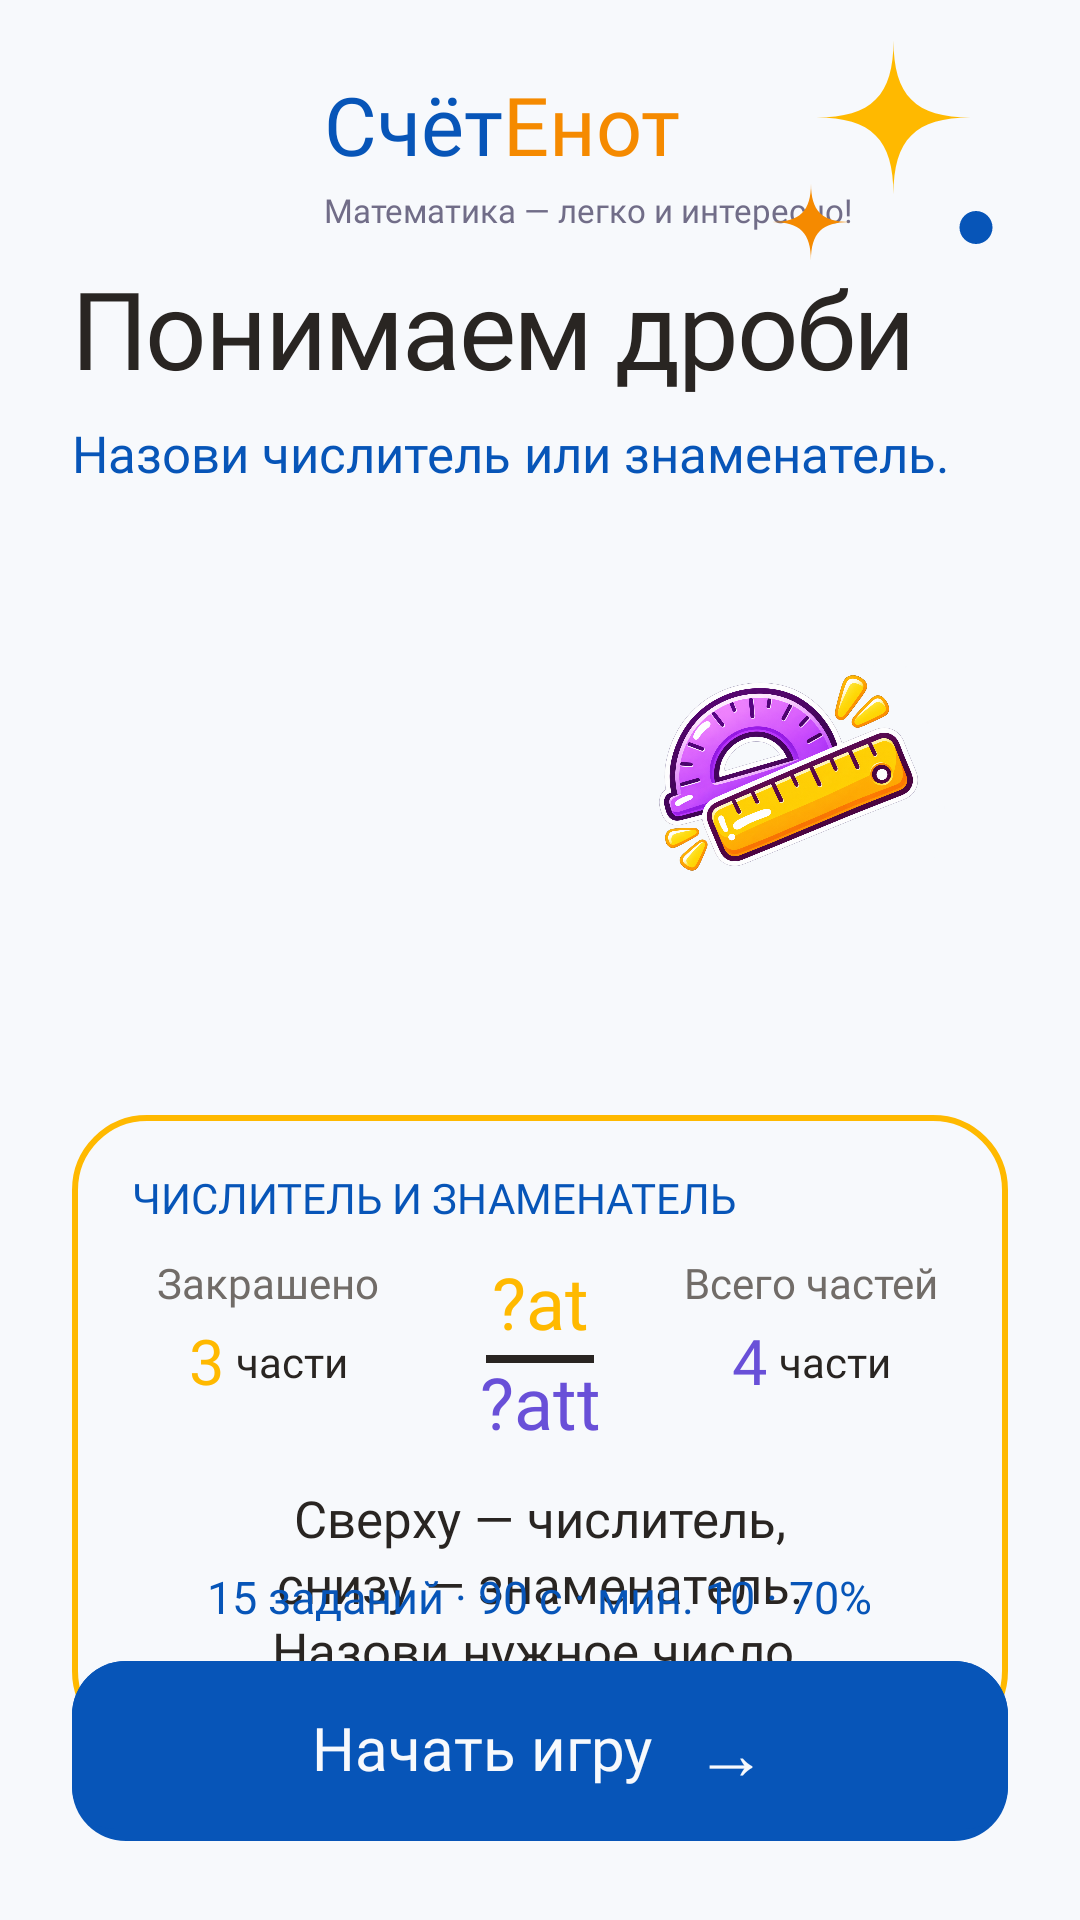

Point at icon controls on the screen. Image size 1080 × 1920, points as point (x, y).
decor math tools: point (788, 773)
decor sparkles: point (874, 150)
